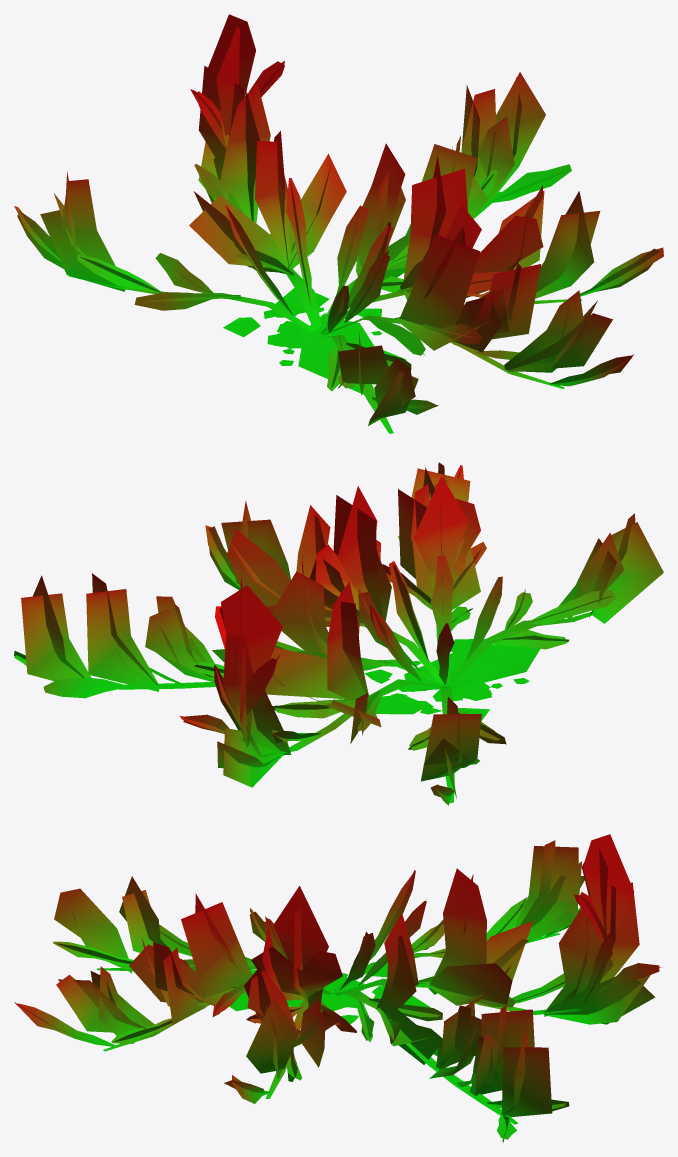
The model's file is River Saltbush_LOD2_Var3_vdfpcgbia.fbx.
3 views of the same model, one above another, from view 1: azimuth 30°, elevation 25°; view 2: azimuth 150°, elevation 25°; view 3: azimuth 270°, elevation 25° (orthographic). The views are drawn at different scales.
Parts seen in each view (by area): view 1: _un93_Var3_LOD2; view 2: _un93_Var3_LOD2; view 3: _un93_Var3_LOD2.
Part boxes in pixels (x1,y1,x2,y2): _un93_Var3_LOD2: (14, 14, 663, 433); _un93_Var3_LOD2: (14, 462, 663, 805); _un93_Var3_LOD2: (14, 834, 662, 1142).
Size of the model in its own units: 75.9 by 30.2 by 91.17.
